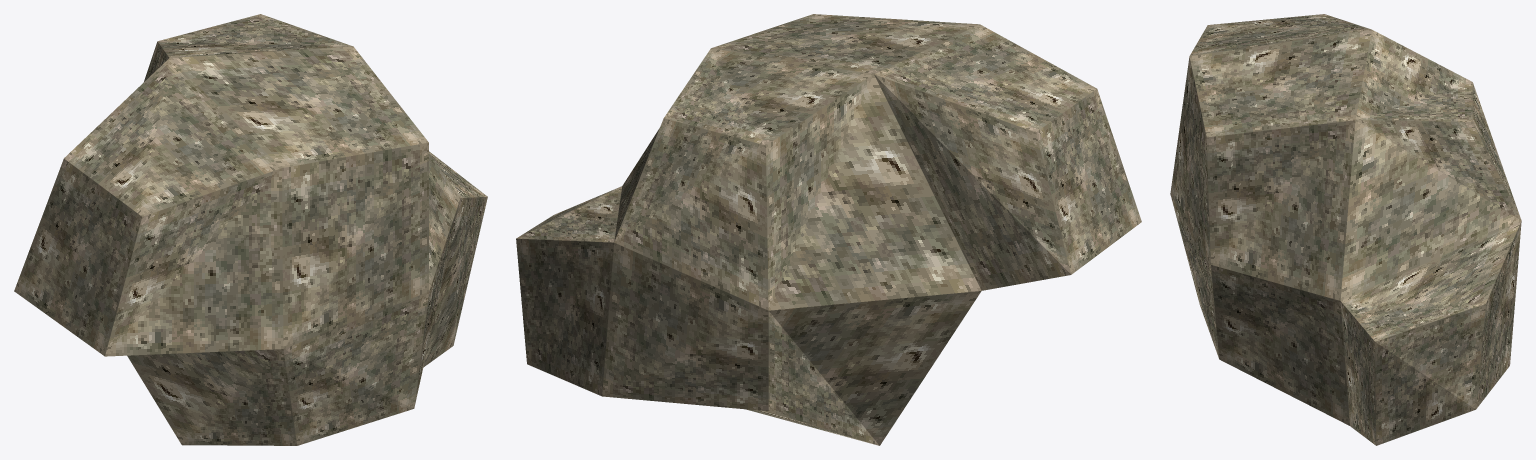
File: asteroid_all_large_01_l2.fbx
3 views of the same model, side by side, from view 1: azimuth 30°, elevation 25°; view 2: azimuth 150°, elevation 25°; view 3: azimuth 270°, elevation 25° (orthographic). The views are drawn at different scales.
Parts seen in each view (by area): view 1: mesh_node; view 2: mesh_node; view 3: mesh_node.
Boxes of the visible parts, left/top/right/bottom form: mesh_node: left=14, top=14, right=487, bottom=445; mesh_node: left=516, top=14, right=1141, bottom=445; mesh_node: left=1170, top=14, right=1521, bottom=445.
Bounding box in the file's own units: 141 × 104 × 104.
